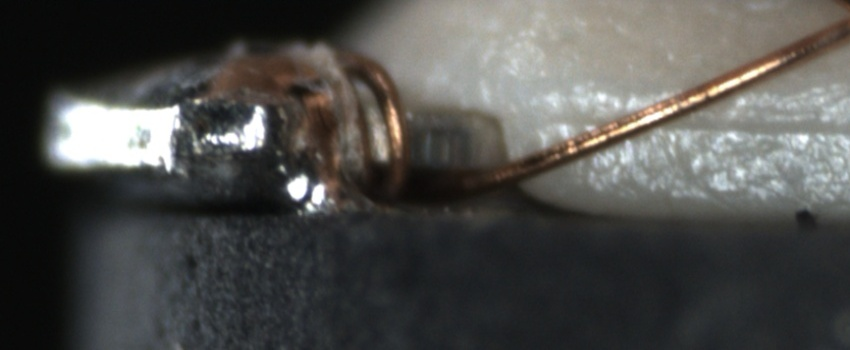DL: (538, 96, 850, 155)
TE: (328, 49, 410, 196)
